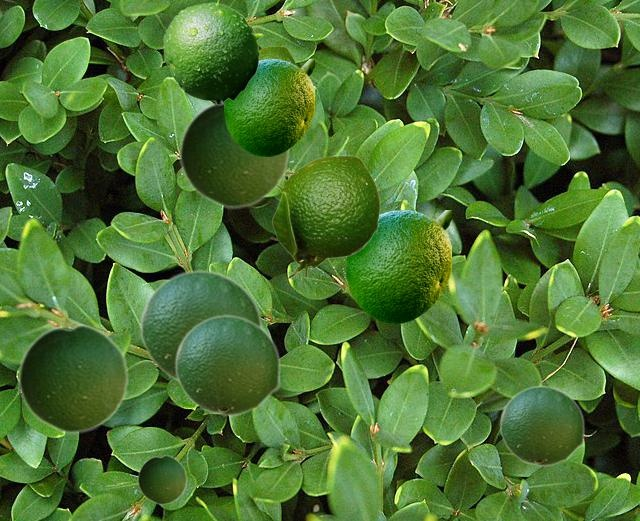dalandan: (139, 269, 262, 383), (270, 155, 379, 278), (17, 322, 128, 434), (178, 102, 289, 209), (346, 210, 450, 322), (174, 314, 280, 416), (163, 2, 262, 104), (224, 59, 313, 155), (499, 385, 584, 466), (137, 454, 186, 504), (260, 46, 296, 64)
